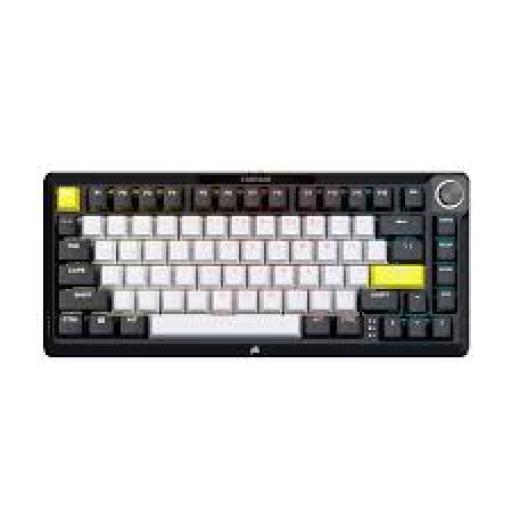keyboard: (46, 173, 469, 353)
